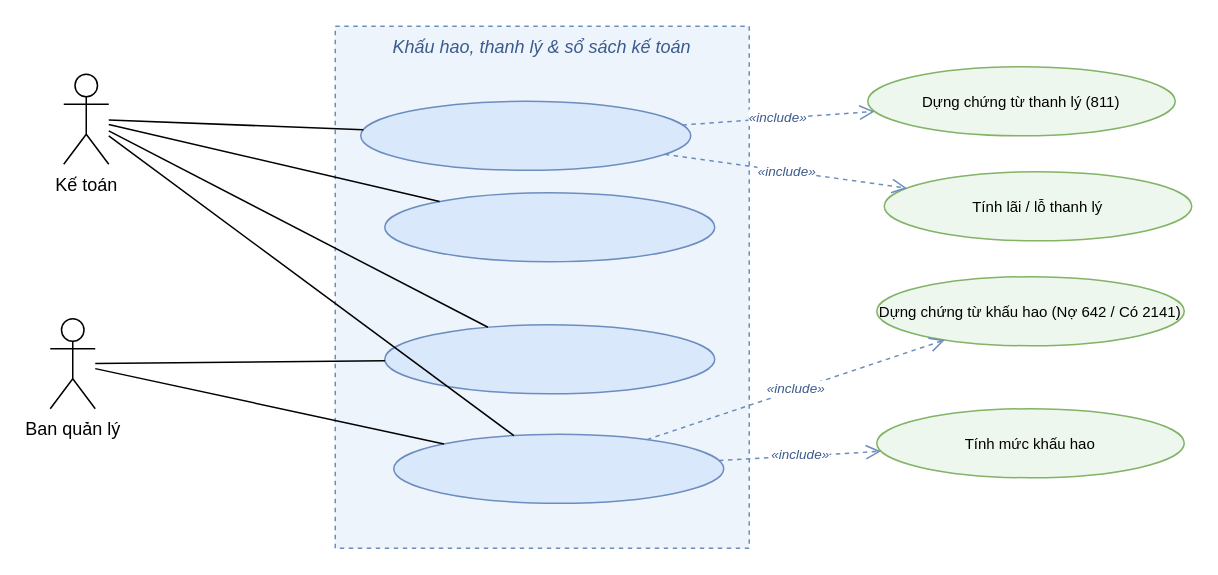
Image size: 1218x575. Some labels were removed from this diagram. Here are the shapes that lost their labels. From the top down, the centre of each, then its label:
At point 525,135: "Thanh lý tài sản".
At point 549,226: "Tra cứu sổ sách & chứng từ".
At point 549,358: "Báo cáo tài sản / bảng cân đối".
At point 558,468: "Khấu hao định kỳ".
